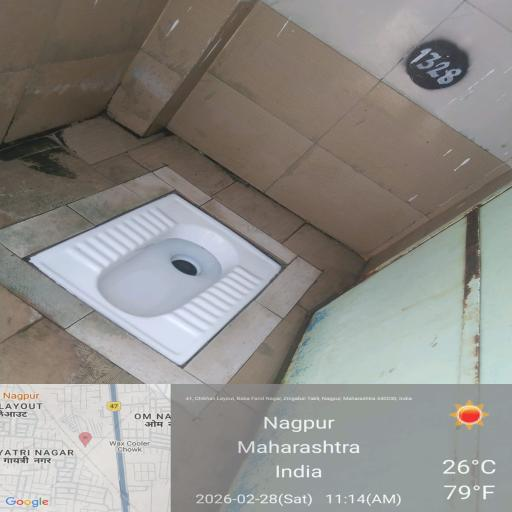clean_floor: (30, 18, 477, 245), (24, 354, 440, 512)
clean_indian: (51, 166, 289, 350)
